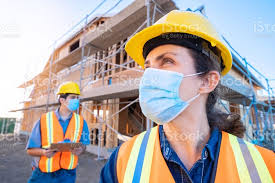Helmet: (125, 13, 243, 63), (54, 81, 91, 98)
Jacket: (113, 139, 268, 183), (37, 112, 83, 173)
Mask: (135, 71, 200, 121), (65, 98, 79, 110)
